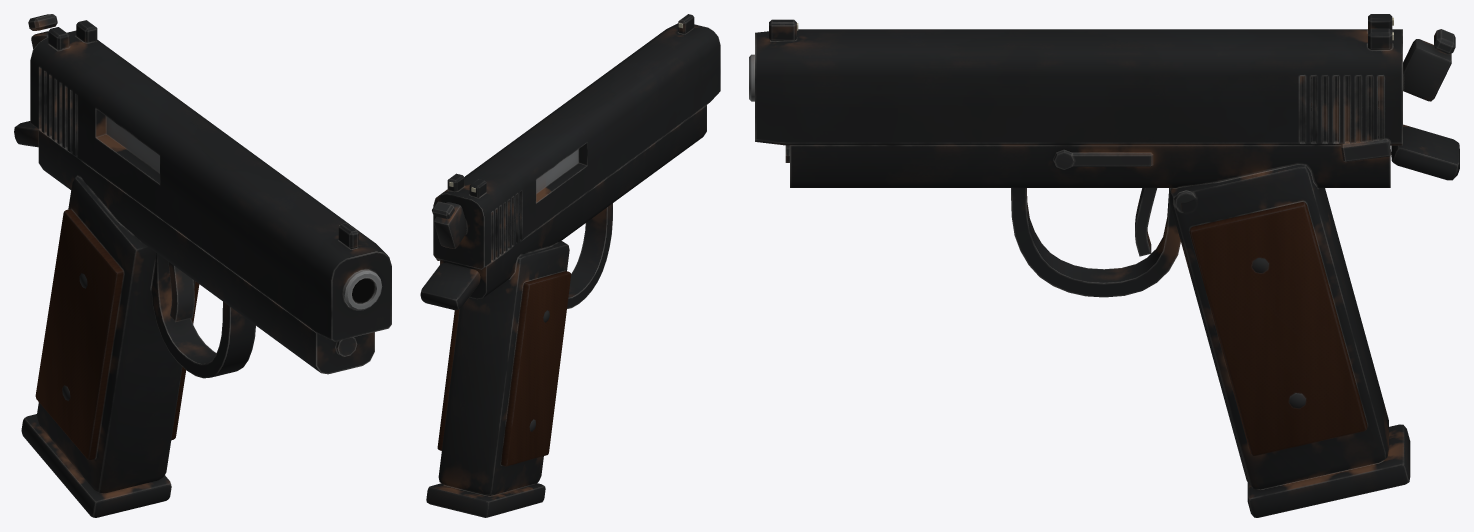
File: SM_Pistol.fbx
3 views of the same model, side by side, from view 1: azimuth 30°, elevation 25°; view 2: azimuth 150°, elevation 25°; view 3: azimuth 270°, elevation 25° (orthographic). The views are drawn at different scales.
Parts seen in each view (by area): view 1: Pistol_Frame, Pistol_Slide, Pistol_Magazine; view 2: Pistol_Frame, Pistol_Slide, Pistol_Magazine; view 3: Pistol_Frame, Pistol_Slide, Pistol_Magazine.
Part boxes in pixels (left/top/right/bottom): Pistol_Frame: left=14, top=14, right=374, bottom=493; Pistol_Slide: left=30, top=20, right=391, bottom=341; Pistol_Magazine: left=21, top=414, right=171, bottom=517; Pistol_Frame: left=420, top=105, right=706, bottom=495; Pistol_Slide: left=433, top=14, right=720, bottom=269; Pistol_Magazine: left=426, top=483, right=545, bottom=517; Pistol_Frame: left=785, top=29, right=1459, bottom=489; Pistol_Slide: left=749, top=14, right=1402, bottom=145; Pistol_Magazine: left=1247, top=424, right=1410, bottom=517.
Size of the model in its own units: 0.033 by 0.1511 by 0.2035.
